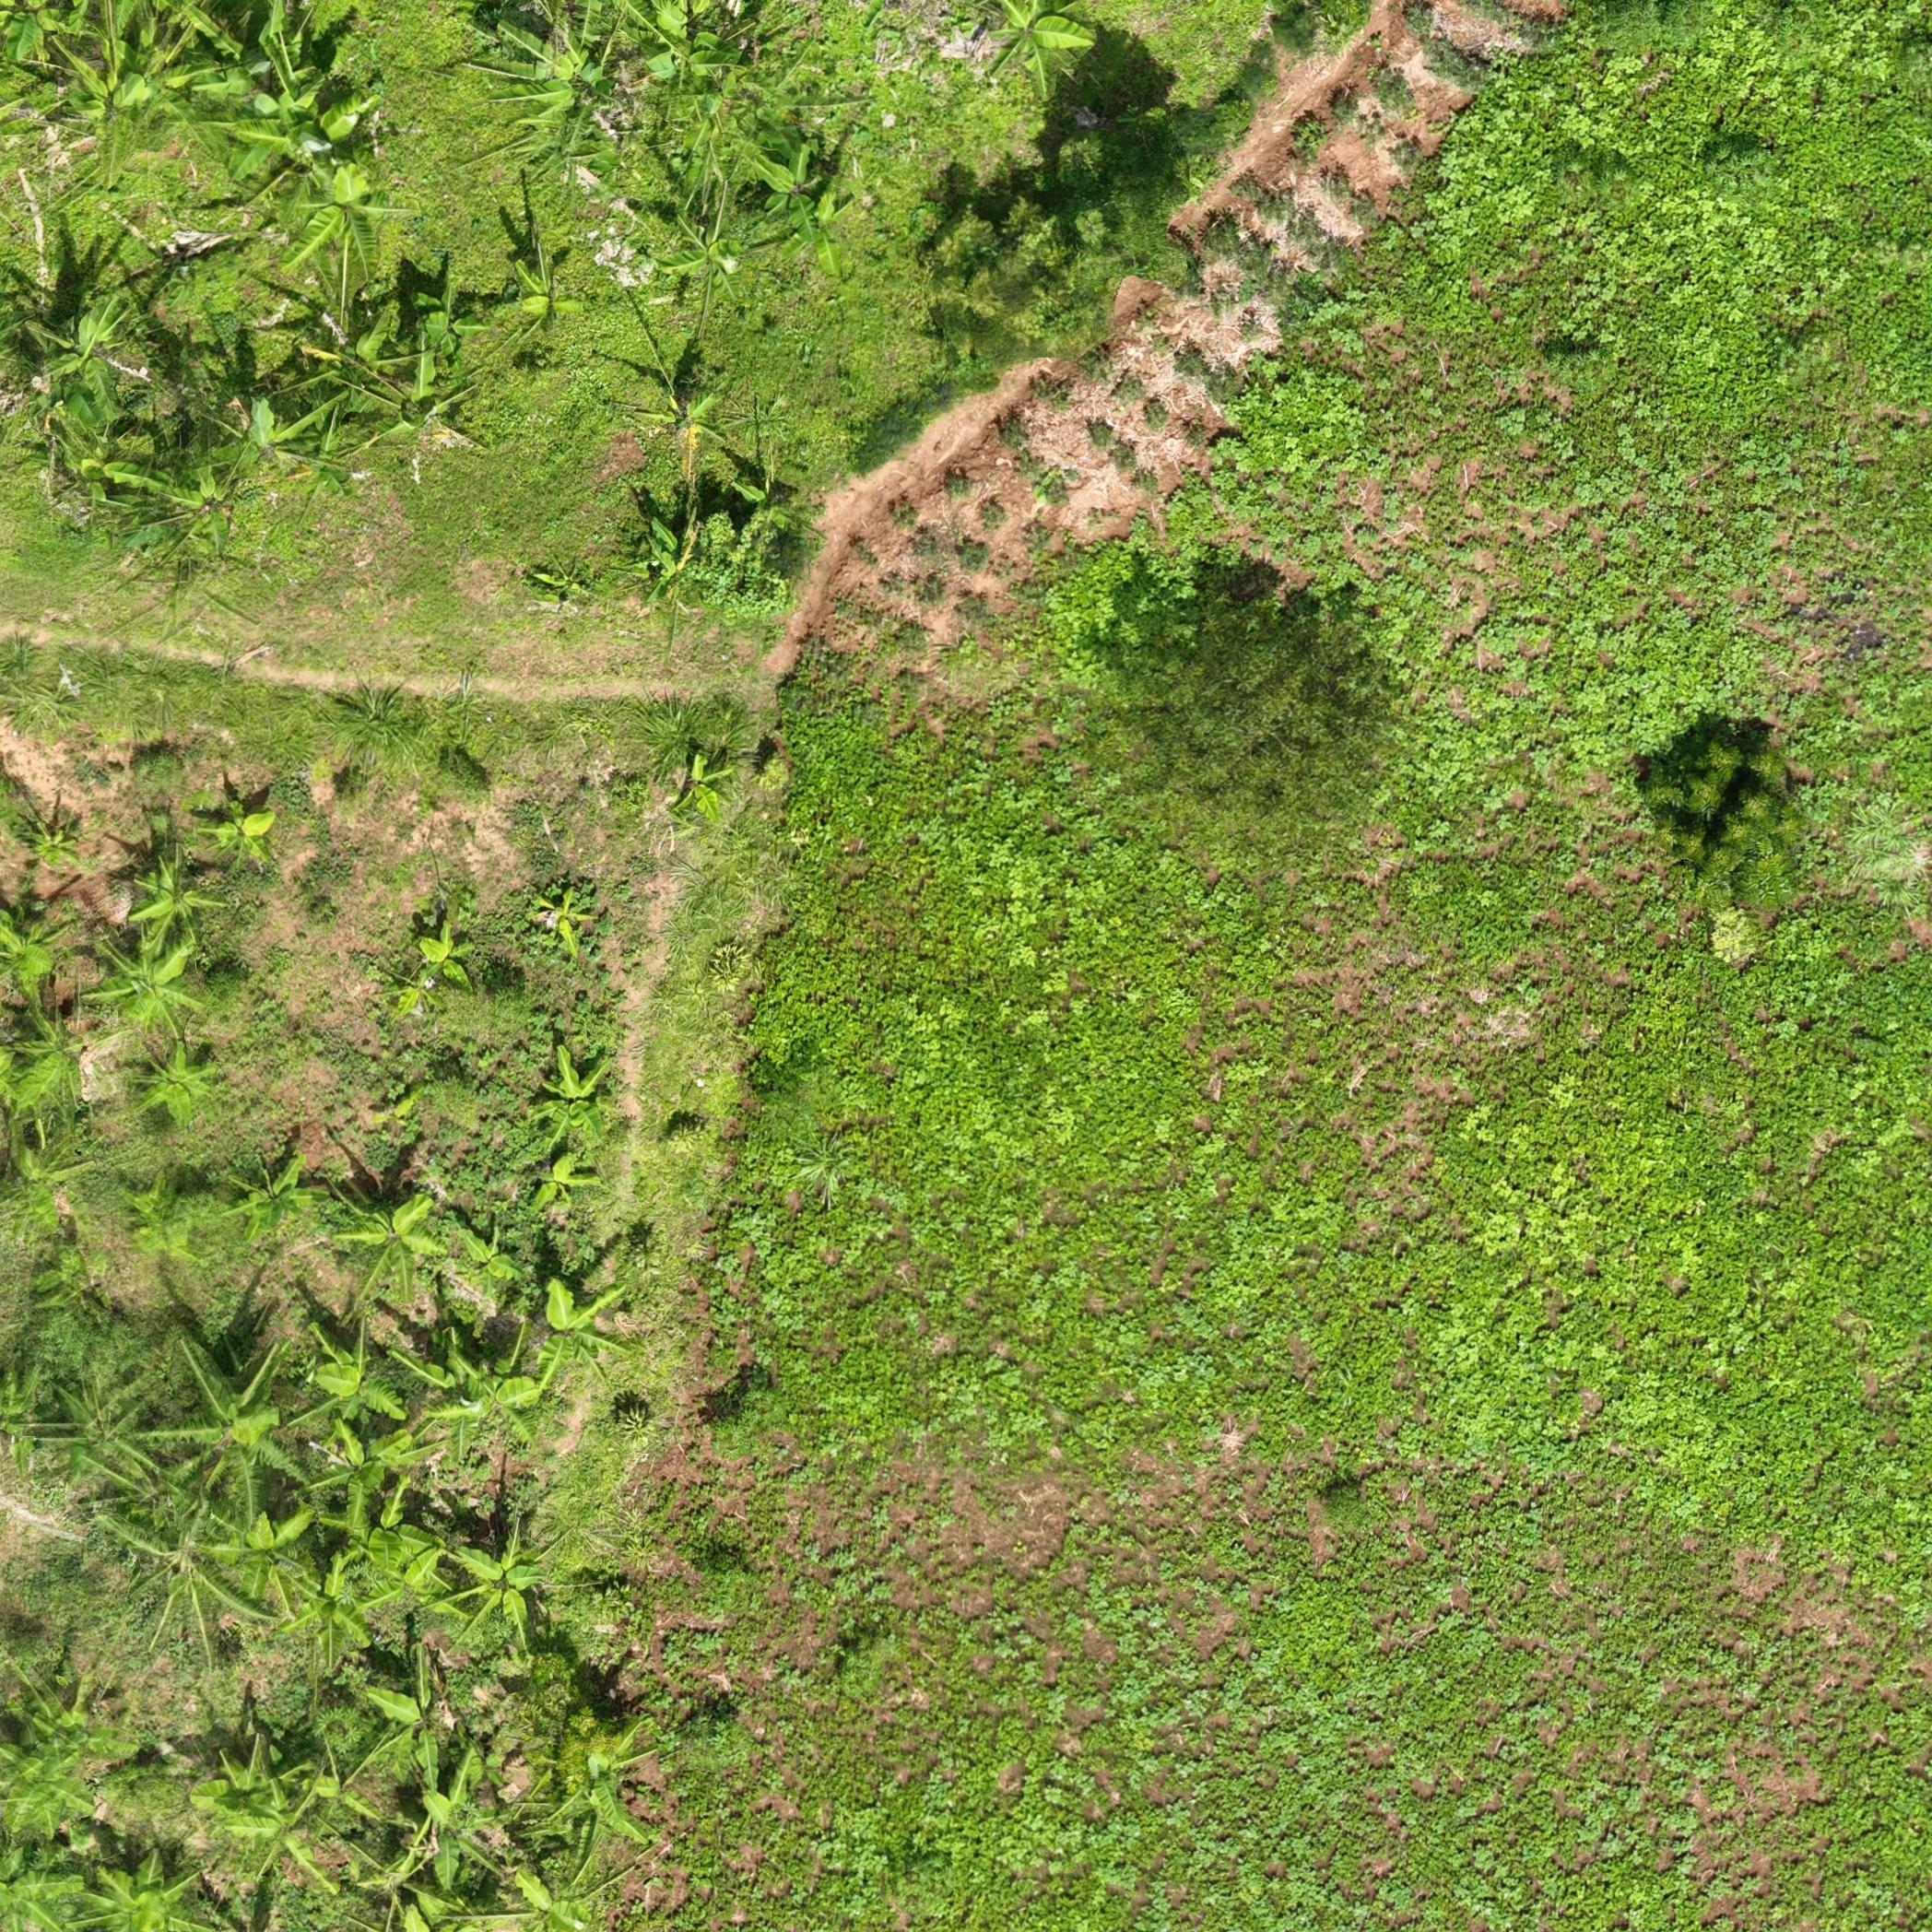Banana: (168, 1339, 303, 1491), (186, 1727, 324, 1870), (271, 152, 409, 274), (7, 1693, 119, 1842), (278, 1306, 409, 1431), (115, 1509, 248, 1629), (203, 1474, 324, 1598), (55, 1833, 209, 1928), (297, 310, 419, 421), (740, 138, 849, 262), (292, 1408, 412, 1520), (511, 88, 633, 196), (667, 67, 782, 180), (161, 2, 262, 124), (640, 4, 748, 113), (379, 1502, 474, 1626), (492, 25, 628, 106), (96, 932, 209, 1030), (244, 74, 350, 177), (414, 1764, 511, 1872), (301, 1736, 395, 1845), (373, 1674, 467, 1783), (455, 1527, 547, 1635), (660, 205, 757, 301), (5, 1010, 96, 1111), (570, 1741, 660, 1842), (214, 396, 311, 488), (964, 7, 1083, 81), (533, 1274, 621, 1373), (359, 1200, 449, 1292), (495, 242, 579, 341), (478, 1863, 603, 1928), (134, 1039, 225, 1129), (166, 471, 248, 568), (290, 1564, 379, 1652), (626, 506, 697, 609), (640, 379, 729, 460), (545, 1049, 614, 1146), (410, 299, 497, 368), (140, 867, 214, 947), (412, 929, 483, 1007), (232, 1162, 310, 1228), (729, 474, 810, 533), (674, 761, 741, 824), (203, 807, 278, 863), (32, 835, 97, 870)
